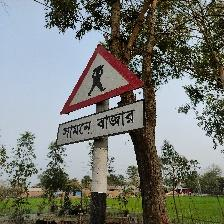Market-in-front: (57, 42, 146, 147)
